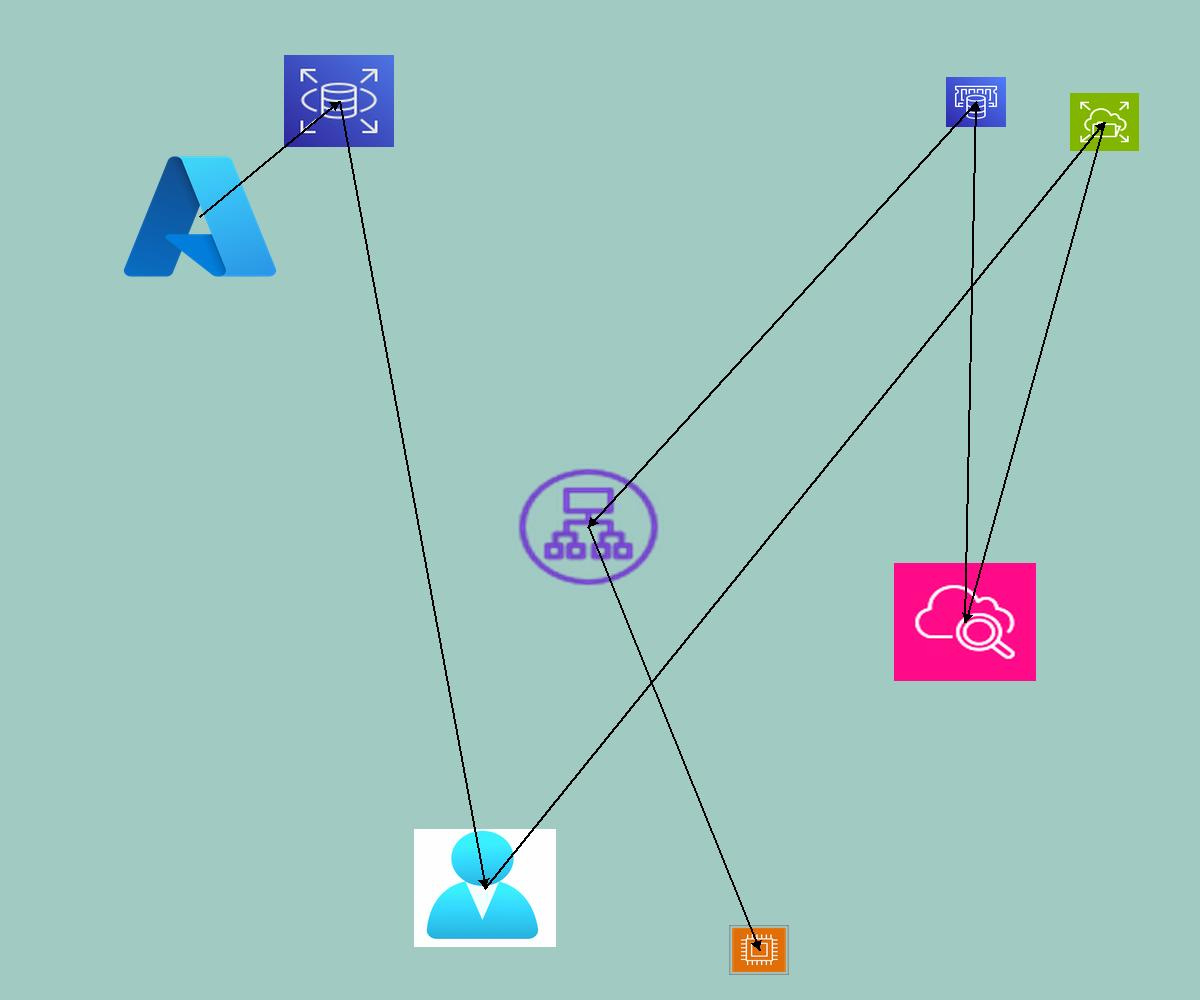AWS-Category_Compute: (729, 925, 789, 975)
AWS-CloudWatch: (894, 563, 1036, 681)
AWS-EFS: (1070, 93, 1139, 151)
AWS-ElastiCache: (946, 77, 1006, 127)
AWS-RDS: (284, 55, 394, 147)
AWS-Res_Elastic-Load-Balancing_Application-Load-Balancer: (513, 464, 664, 590)
Azure_services: (117, 147, 283, 286)
Azure_users: (414, 829, 556, 947)
